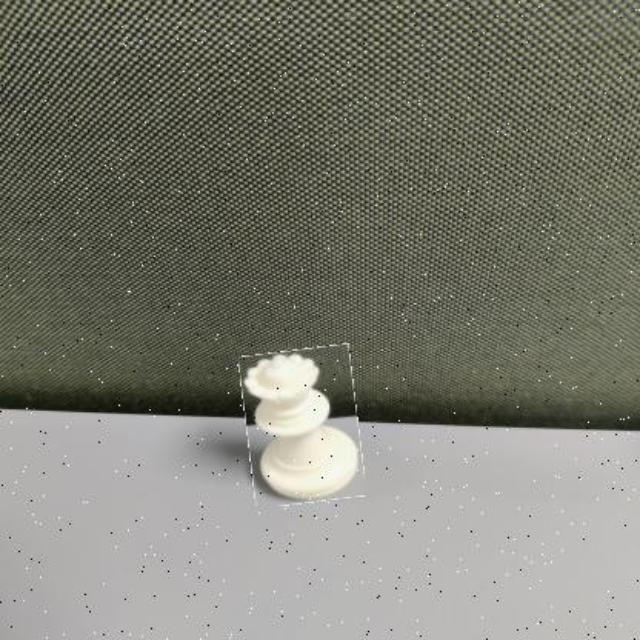white-queen: (244, 346, 362, 504)
